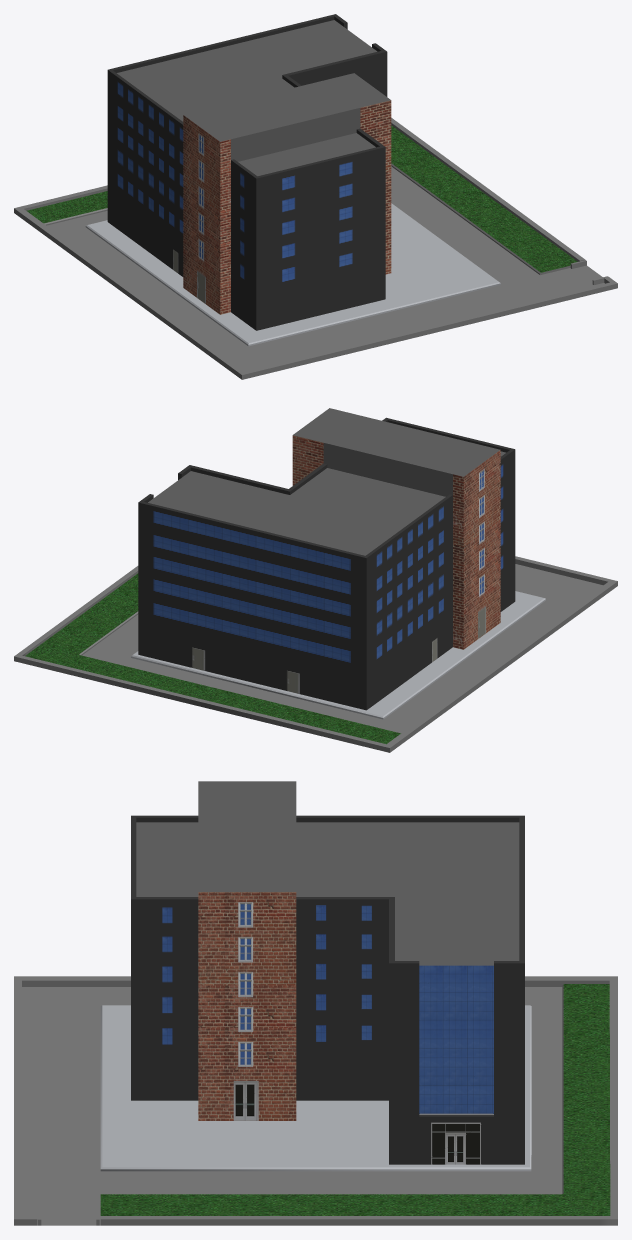
File: officeBlock.glb
3 renders of one model, top to bottom at view 1: azimuth 30°, elevation 25°; view 2: azimuth 150°, elevation 25°; view 3: azimuth 270°, elevation 25°, orthographic. The views are drawn at different scales.
Parts seen in each view (by area): view 1: SiteOffice001, SiteOffice_Ground; view 2: SiteOffice001, SiteOffice_Ground; view 3: SiteOffice001, SiteOffice_Ground.
Boxes of the visible parts, x1=… form: SiteOffice001: x1=107, y1=14, x2=391, y2=330; SiteOffice_Ground: x1=14, y1=118, x2=617, y2=379; SiteOffice001: x1=138, y1=408, x2=515, y2=710; SiteOffice_Ground: x1=14, y1=556, x2=617, y2=752; SiteOffice001: x1=131, y1=781, x2=524, y2=1164; SiteOffice_Ground: x1=14, y1=976, x2=617, y2=1225.
Bounding box in the file's own units: 54.29 × 24.22 × 57.05.
2 materials, 2 textured.
